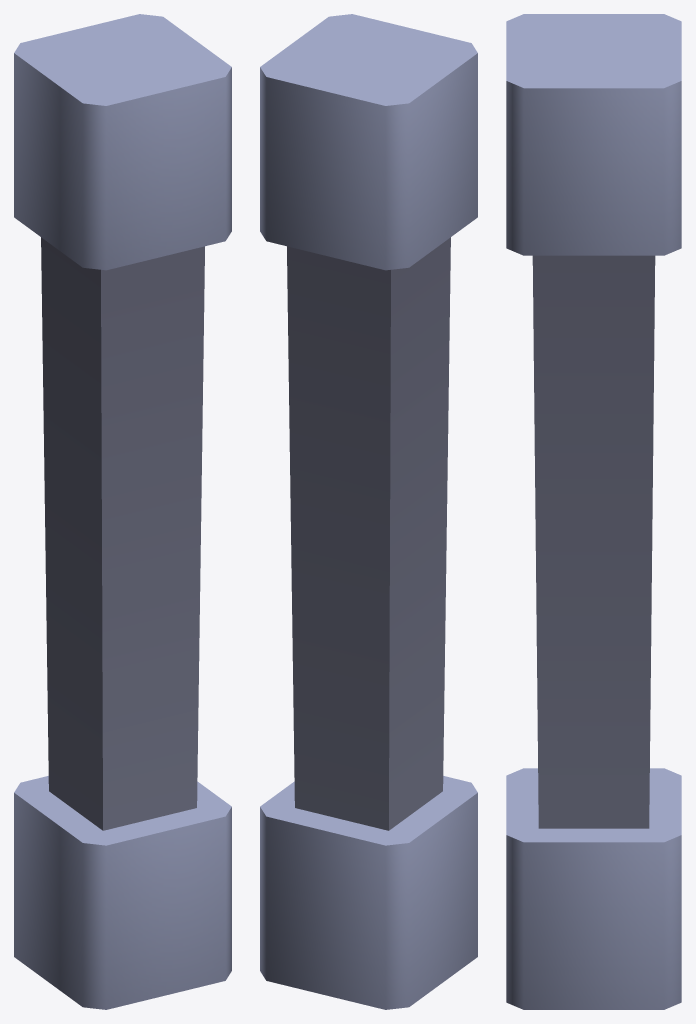
Rendered from column_lev4.glb.
3 renders of one model, left to right at view 1: azimuth 30°, elevation 25°; view 2: azimuth 150°, elevation 25°; view 3: azimuth 270°, elevation 25°, orthographic.
Parts seen in each view (by area): view 1: column_lev4; view 2: column_lev4; view 3: column_lev4.
Boxes of the visible parts, x1=… form: column_lev4: x1=14, y1=14, x2=231, y2=1009; column_lev4: x1=260, y1=14, x2=477, y2=1009; column_lev4: x1=506, y1=14, x2=681, y2=1009.
Size of the model in its own units: 1.72 by 9.97 by 1.72.
1 material, 1 textured.
